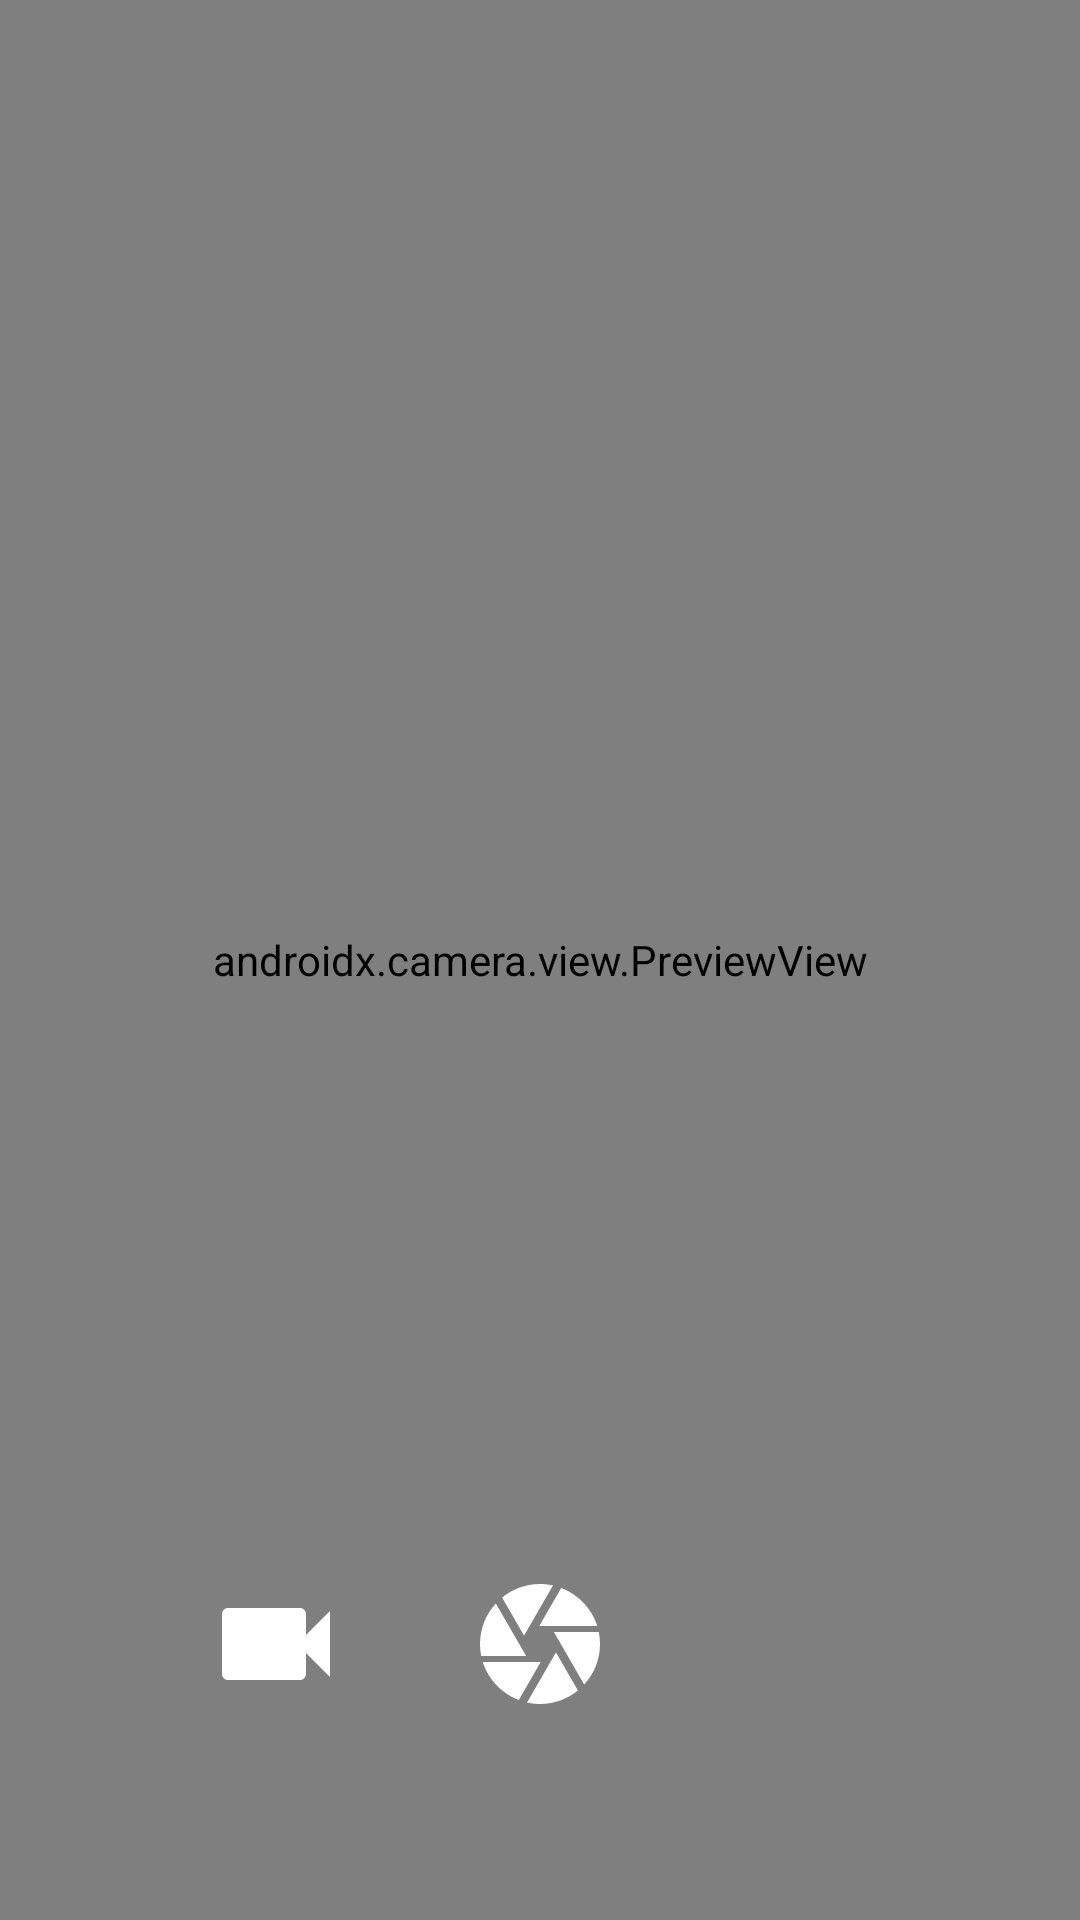

Icon click points for this 1080×1920 phone screenshot, format (x,y):
videocam: (276,1644)
